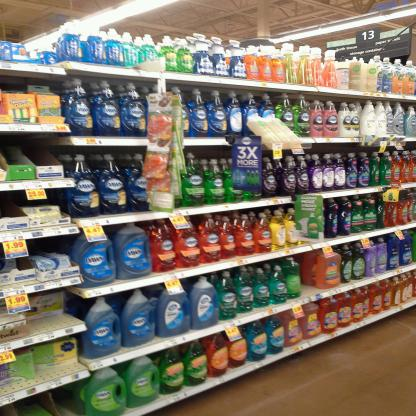Void: (4, 134, 52, 163), (32, 239, 69, 250), (302, 257, 313, 293), (28, 320, 76, 328), (2, 194, 18, 214)
